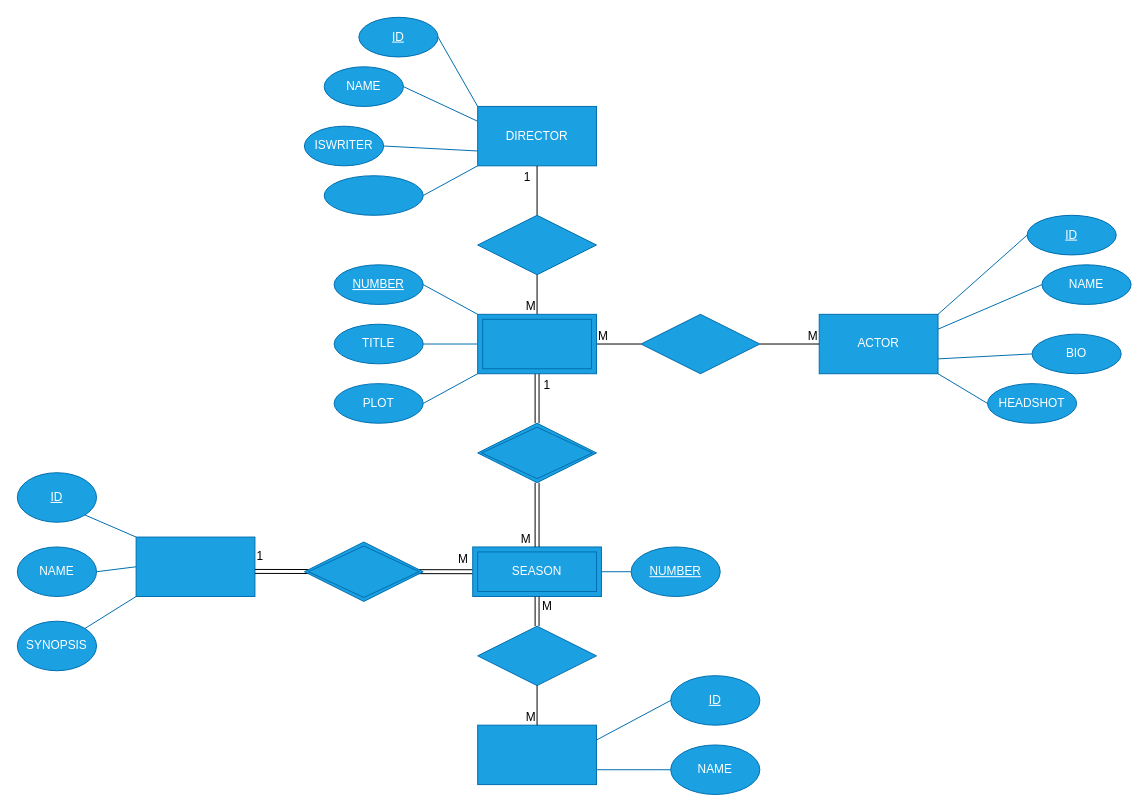
This 1148x812 diagram has some shape labels left out. Each missing label, with the box of its shape:
air: (477, 625, 596, 686)
consists: (477, 422, 596, 483)
contains: (303, 541, 423, 601)
direct: (477, 214, 596, 275)
EPISODE: (477, 313, 596, 374)
ISPRODUCER: (323, 175, 423, 215)
NETWORK: (477, 724, 596, 785)
stars: (640, 313, 760, 374)
TV SHOW: (135, 536, 255, 596)
